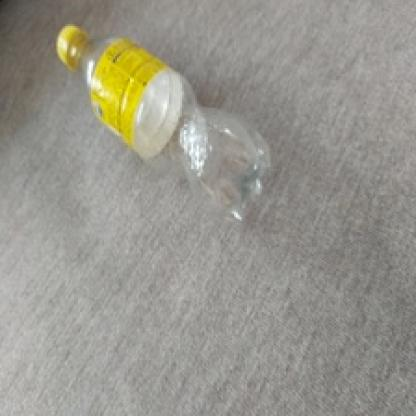plastic_bottles: (57, 20, 269, 203)
